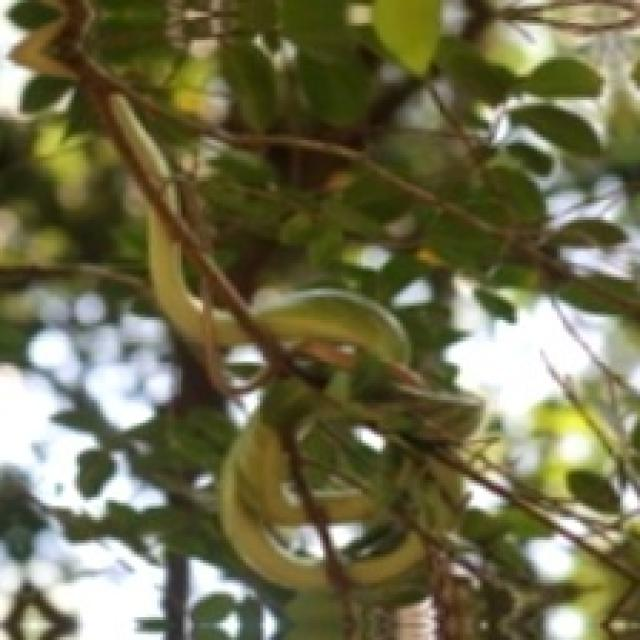red-tailed green ratsnake: (74, 59, 481, 599)
